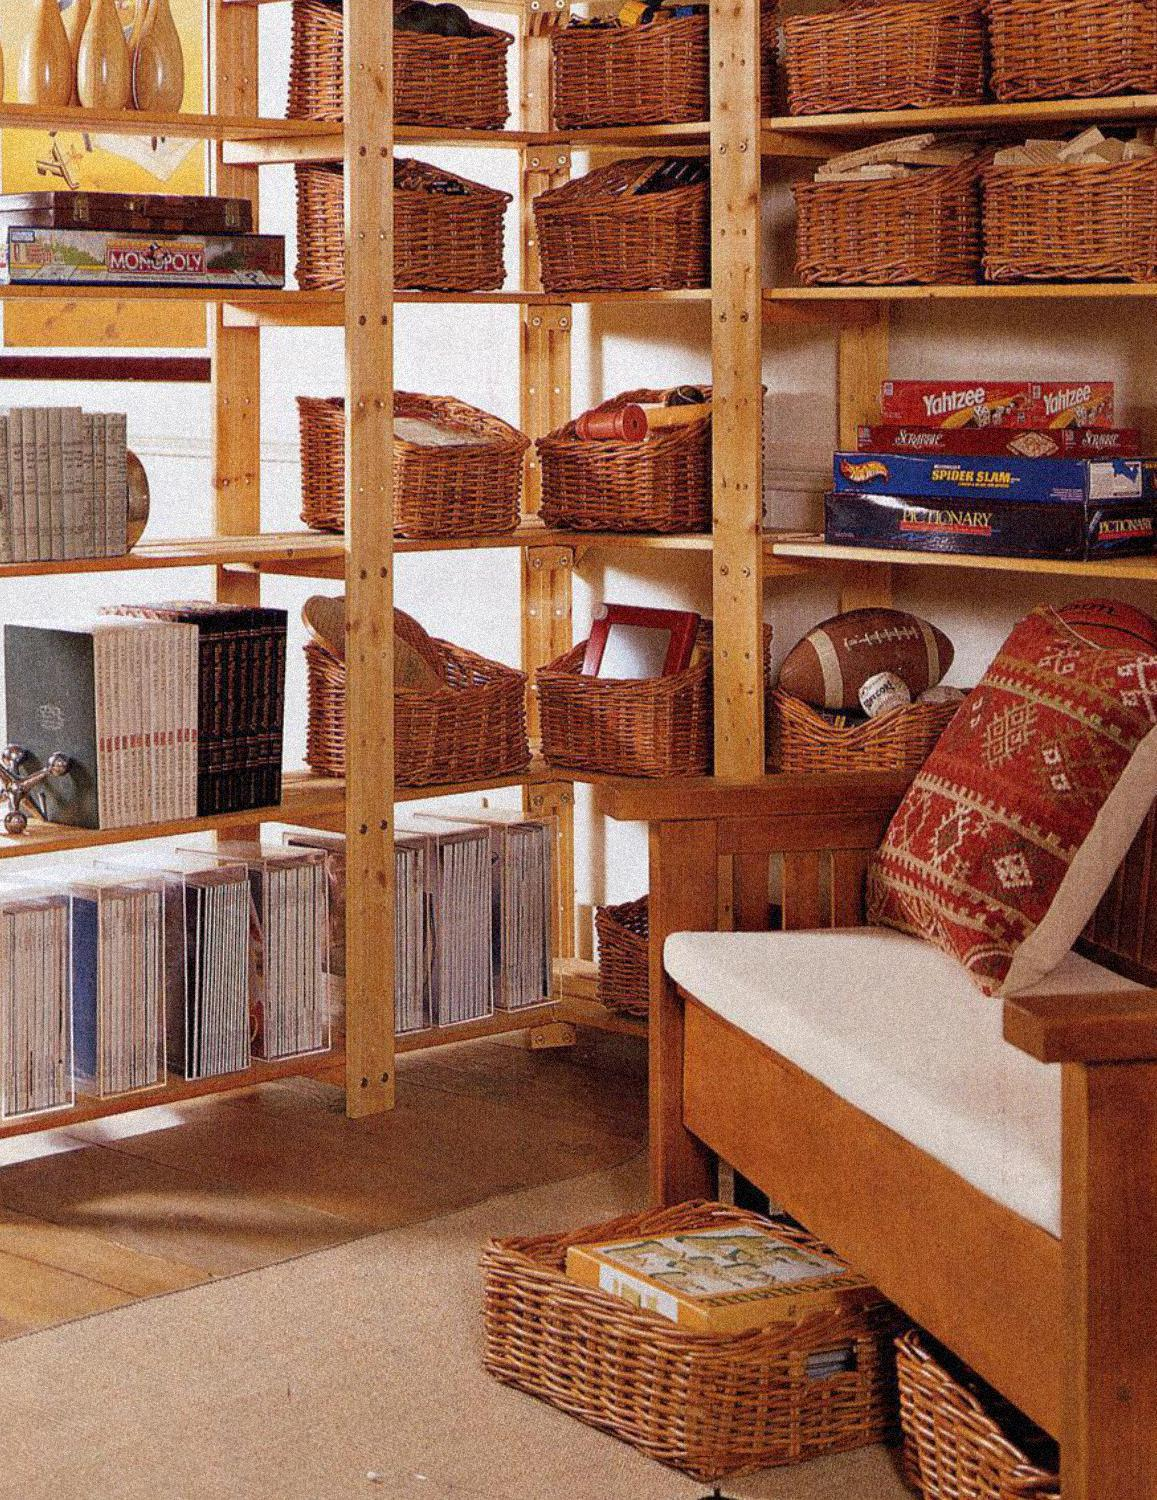Otro Obstaculo: (503, 1157, 876, 1495), (160, 1482, 551, 1500)
